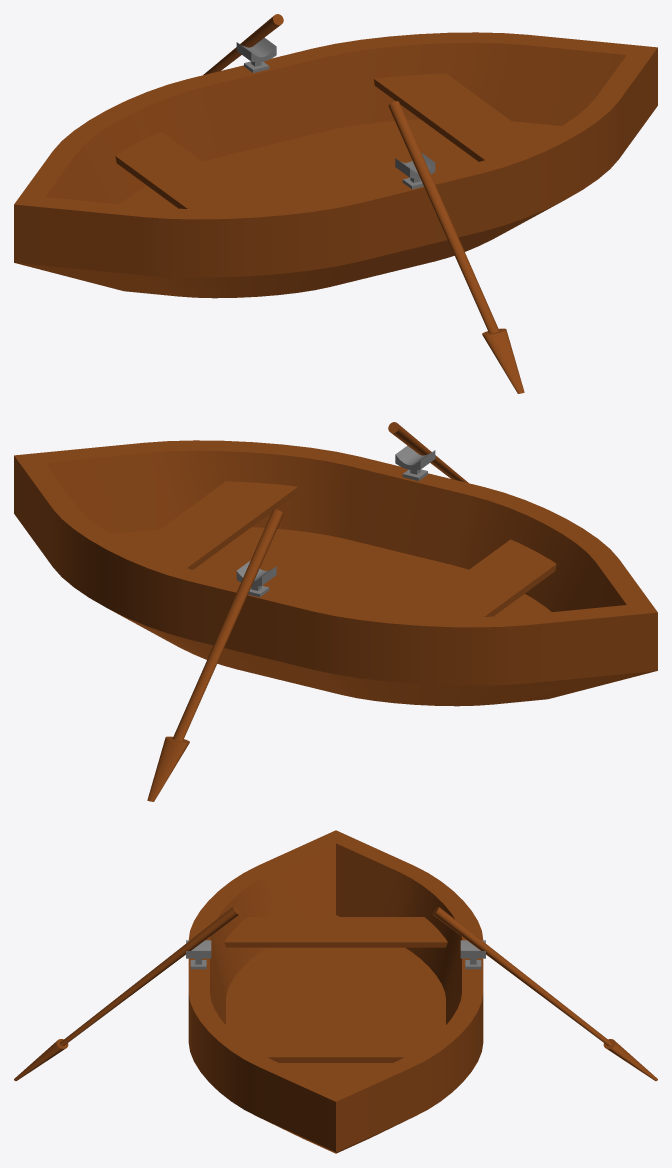
Rendered from sandal.fbx.
3 renders of one model, top to bottom at view 1: azimuth 30°, elevation 25°; view 2: azimuth 150°, elevation 25°; view 3: azimuth 270°, elevation 25°, orthographic. The views are drawn at different scales.
Visible parts, largest first — view 1: Cube; view 2: Cube; view 3: Cube.
Boxes of the visible parts, <box> form: Cube: <box>14,14,657,393</box>; Cube: <box>14,422,657,801</box>; Cube: <box>14,830,657,1153</box>.
Size of the model in its own units: 394 by 117 by 395.
1 material, 1 textured.
